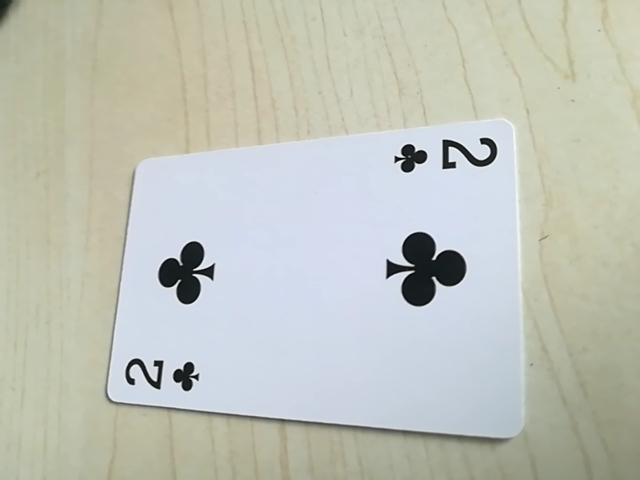mh 2: (390, 131, 505, 181), (117, 350, 206, 399)
